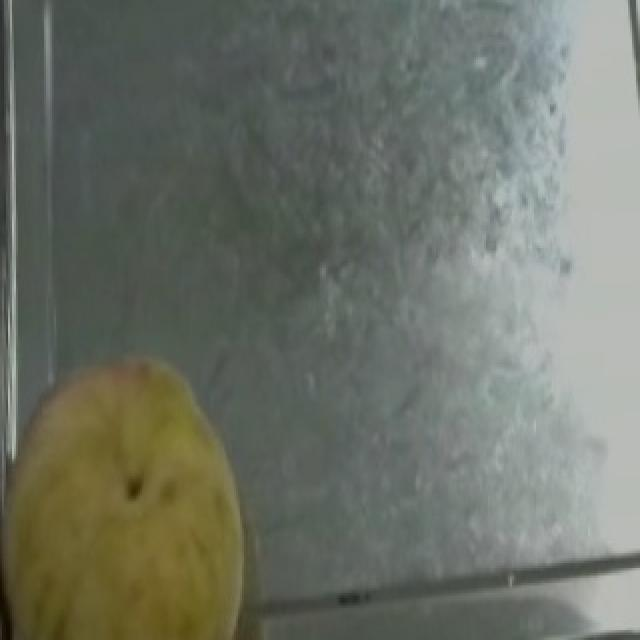Fruit: (0, 340, 268, 640)
